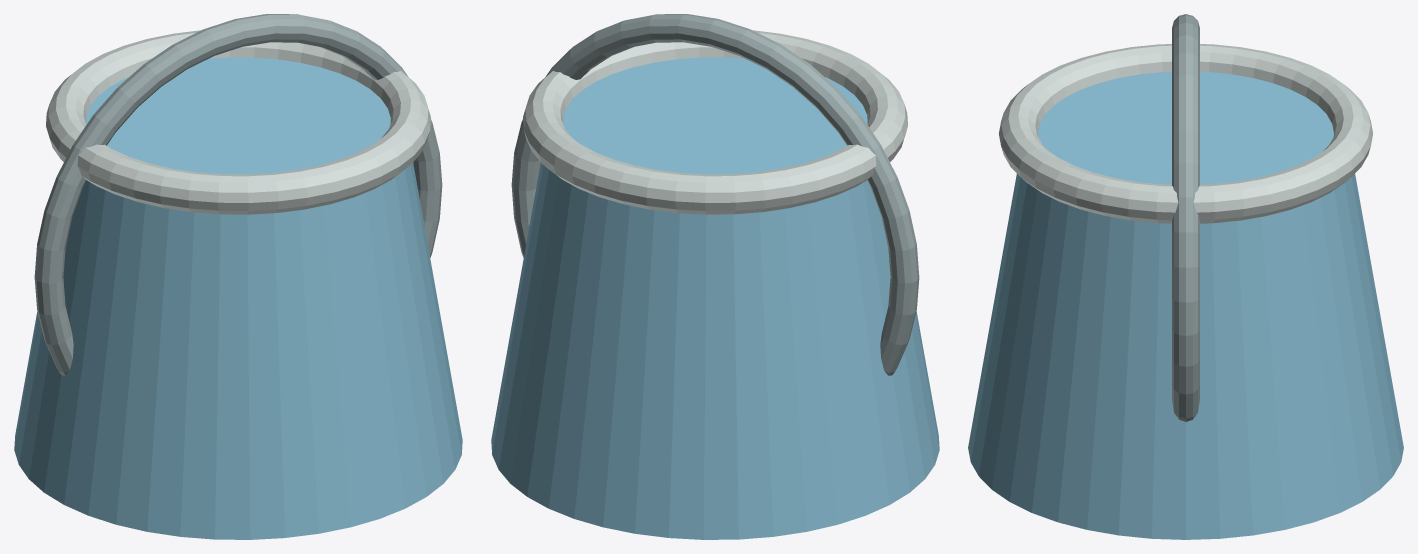
Rendered from bucket.glb.
3 views of the same model, side by side, from view 1: azimuth 30°, elevation 25°; view 2: azimuth 150°, elevation 25°; view 3: azimuth 270°, elevation 25° (orthographic). The views are drawn at different scales.
Visible parts, largest first — view 1: Bucket_Body, Bucket_Rim, Bucket_Handle; view 2: Bucket_Body, Bucket_Rim, Bucket_Handle; view 3: Bucket_Body, Bucket_Rim, Bucket_Handle.
Boxes of the visible parts, x1,y1,x2,y2 form: Bucket_Body: (14, 57, 462, 539); Bucket_Rim: (46, 30, 430, 214); Bucket_Handle: (34, 14, 442, 375); Bucket_Body: (491, 57, 939, 539); Bucket_Rim: (523, 30, 907, 214); Bucket_Handle: (511, 14, 919, 375); Bucket_Body: (968, 71, 1403, 539); Bucket_Rim: (999, 44, 1372, 223); Bucket_Handle: (1172, 14, 1199, 421).
Size of the model in its own units: 0.81 by 0.815 by 0.78.
